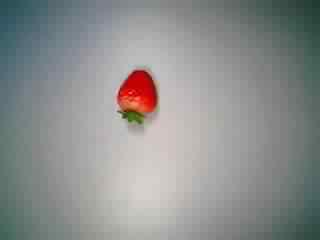strawberry: (105, 66, 171, 128)
